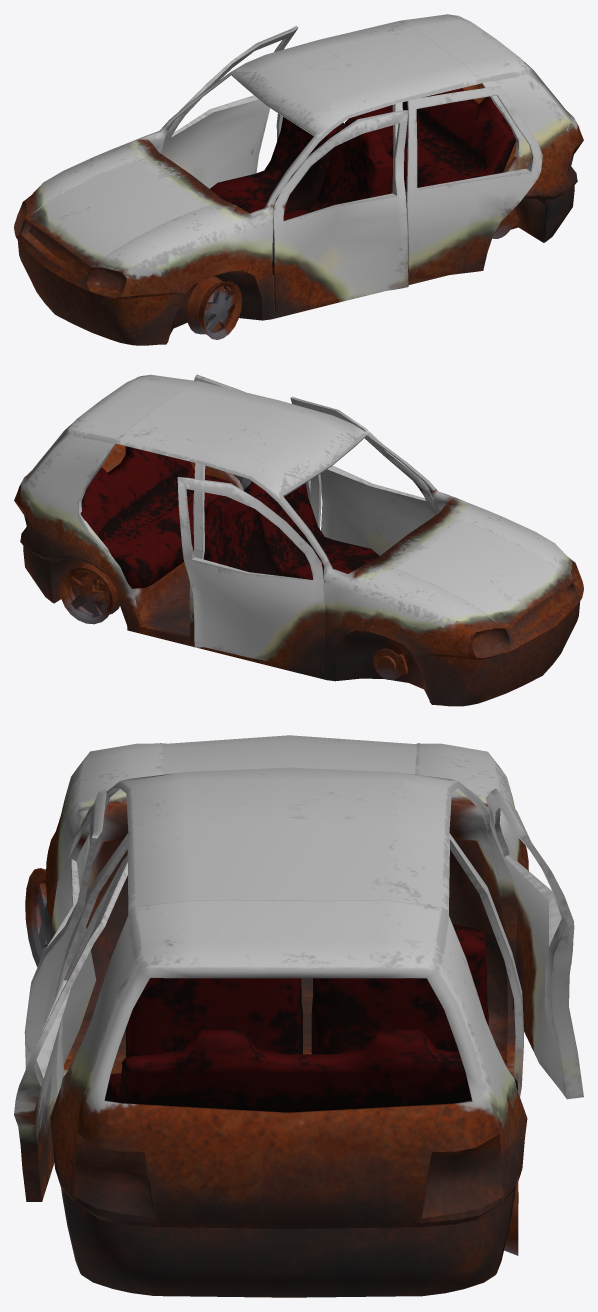
3 renders of one model, top to bottom at view 1: azimuth 30°, elevation 25°; view 2: azimuth 150°, elevation 25°; view 3: azimuth 270°, elevation 25°, orthographic. The views are drawn at different scales.
Visible parts, largest first — view 1: CarChasis-low, Door-Front-Left, Door-Back-Left, Seat-Back, Door-Front-Right, Seat-Front-Left.001, Seat-Front-Left, Rim-Front-Left; view 2: CarChasis-low, Door-Front-Right, Seat-Back, Door-Front-Left, Seat-Front-Left, Seat-Front-Left.001, Rim-Back-Right, Rim-Front-Right; view 3: CarChasis-low, Seat-Back, Door-Front-Right, Seat-Front-Left, Seat-Front-Left.001, Door-Back-Left, Door-Front-Left, Rim-Front-Left.
Part boxes in pixels (x1,y1,x2,y2): CarChasis-low: (14,14,583,345); Door-Front-Left: (273,110,408,312); Door-Back-Left: (406,86,542,280); Seat-Back: (344,88,516,194); Door-Front-Right: (161,26,298,188); Seat-Front-Left.001: (210,117,346,213); Seat-Front-Left: (272,122,392,274); Rim-Front-Left: (186,276,241,339); CarChasis-low: (14,374,583,706); Door-Front-Right: (177,477,325,670); Seat-Back: (80,446,236,588); Door-Front-Left: (290,396,436,555); Seat-Front-Left: (244,481,379,581); Seat-Front-Left.001: (203,495,285,576); Rim-Back-Right: (59,562,119,624); Rim-Front-Right: (373,648,408,680); CarChasis-low: (45,735,528,1297); Seat-Back: (105,1029,517,1112); Door-Front-Right: (485,788,583,1099); Seat-Front-Left: (126,978,302,1057); Seat-Front-Left.001: (311,924,488,1054); Door-Back-Left: (14,855,127,1201); Door-Front-Left: (24,789,109,1069); Rim-Front-Left: (25,868,51,966).
Size of the model in its own units: 942 by 320 by 482.
Materials: 1 (1 with a texture image).
